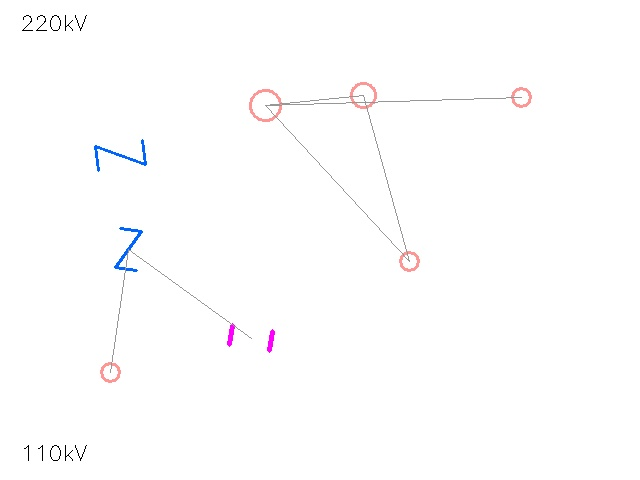capacitor: (218, 305, 284, 371)
circuit_breaker: (94, 129, 146, 181), (106, 227, 150, 271)
current_transformer: (390, 242, 428, 280)
feeder_terminal: (91, 353, 129, 391)
fuse: (234, 74, 296, 136)
reactor: (502, 78, 540, 116)
surge_arrester: (338, 70, 388, 120)
